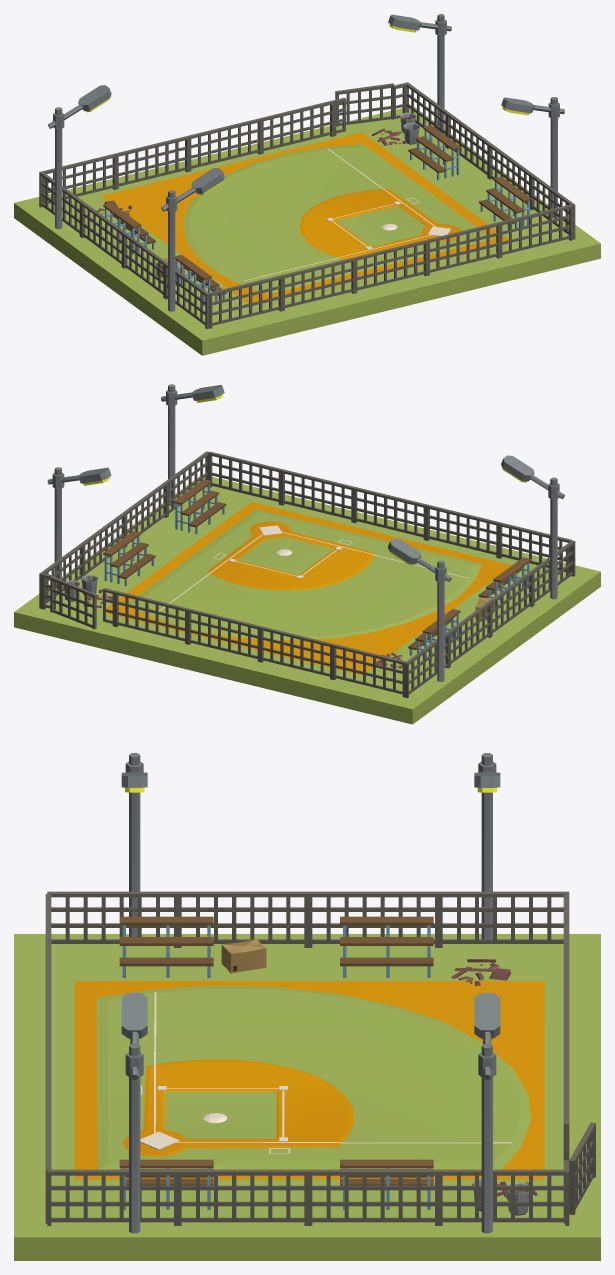
File: baseball-field.fbx
3 renders of one model, top to bottom at view 1: azimuth 30°, elevation 25°; view 2: azimuth 150°, elevation 25°; view 3: azimuth 270°, elevation 25°, orthographic. The views are drawn at different scales.
Visible parts, largest first — view 1: polySurface30, Field1, polySurface54, polySurface9, polySurface7, polySurface55, polySurface53; view 2: polySurface30, Field1, polySurface54, polySurface9, polySurface7, polySurface53, polySurface55; view 3: polySurface30, Field1, polySurface53, polySurface55, polySurface54, polySurface9, polySurface7, box, scrap 4.
Boxes of the visible parts, x1=… form: polySurface30: x1=14, y1=14, x2=600, y2=355; Field1: x1=101, y1=132, x2=512, y2=304; polySurface54: x1=408, y1=125, x2=460, y2=179; polySurface9: x1=479, y1=176, x2=531, y2=229; polySurface7: x1=335, y1=83, x2=394, y2=126; polySurface55: x1=103, y1=203, x2=155, y2=254; polySurface53: x1=175, y1=254, x2=226, y2=305; polySurface30: x1=14, y1=384, x2=600, y2=724; Field1: x1=101, y1=502, x2=511, y2=675; polySurface54: x1=103, y1=531, x2=155, y2=585; polySurface9: x1=173, y1=479, x2=226, y2=534; polySurface7: x1=50, y1=576, x2=96, y2=629; polySurface53: x1=478, y1=557, x2=531, y2=608; polySurface55: x1=408, y1=609, x2=460, y2=659; polySurface30: x1=14, y1=753, x2=600, y2=1260; Field1: x1=74, y1=981, x2=544, y2=1179; polySurface53: x1=119, y1=916, x2=213, y2=977; polySurface55: x1=340, y1=916, x2=433, y2=977; polySurface54: x1=340, y1=1159, x2=433, y2=1209; polySurface9: x1=119, y1=1159, x2=213, y2=1209; polySurface7: x1=569, y1=1122, x2=595, y2=1214; box: x1=221, y1=938, x2=266, y2=973; scrap 4: x1=450, y1=959, x2=511, y2=985.
Bounding box in the file's own units: 3226 × 1105 × 2613.
